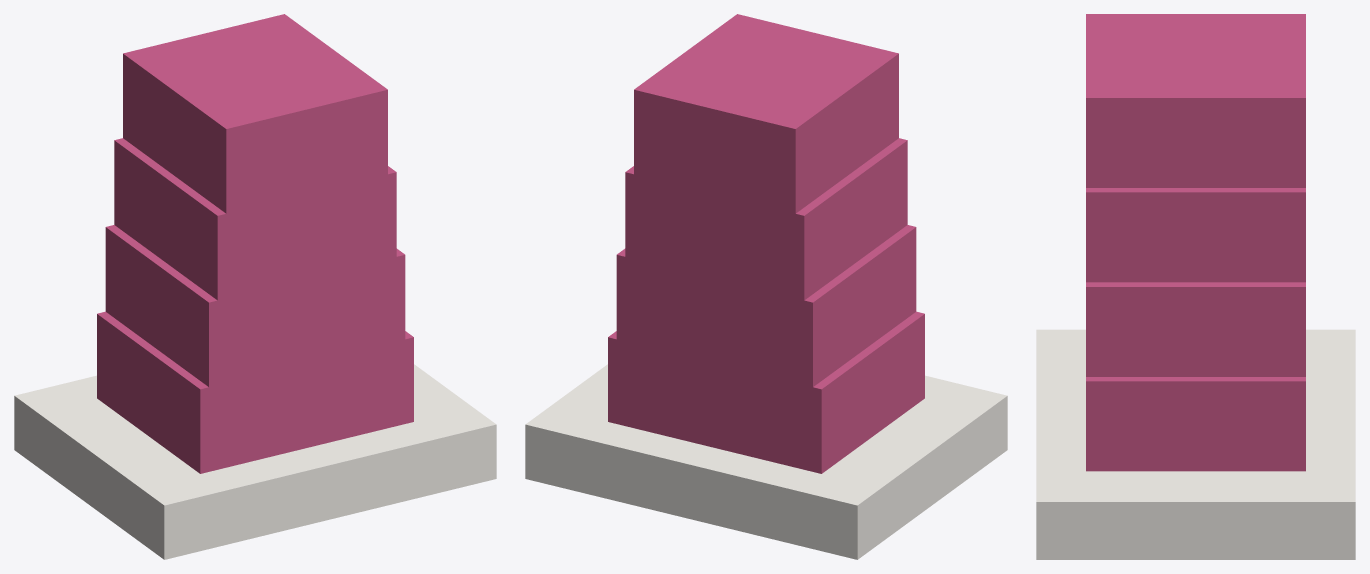
The model's file is record_player-lv4.glb.
The picture shows the model from 3 angles, left to right: view 1: azimuth 30°, elevation 25°; view 2: azimuth 150°, elevation 25°; view 3: azimuth 270°, elevation 25°; orthographic projection. The views are drawn at different scales.
Parts seen in each view (by area): view 1: Base, Level4, Level1, Level2, Level3; view 2: Base, Level4, Level1, Level2, Level3; view 3: Base, Level4, Level1, Level2, Level3.
Part boxes in pixels (x1=…): Base: x1=14, y1=364, x2=496, y2=559; Level4: x1=123, y1=14, x2=387, y2=213; Level1: x1=97, y1=311, x2=413, y2=473; Level2: x1=105, y1=225, x2=405, y2=387; Level3: x1=114, y1=138, x2=396, y2=300; Base: x1=525, y1=364, x2=1007, y2=559; Level4: x1=634, y1=14, x2=898, y2=213; Level1: x1=608, y1=311, x2=924, y2=473; Level2: x1=616, y1=225, x2=916, y2=387; Level3: x1=625, y1=138, x2=907, y2=300; Base: x1=1036, y1=329, x2=1355, y2=559; Level4: x1=1086, y1=14, x2=1305, y2=187; Level1: x1=1086, y1=377, x2=1305, y2=471; Level2: x1=1086, y1=282, x2=1305, y2=376; Level3: x1=1086, y1=188, x2=1305, y2=282.
Bounding box in the file's own units: 1.15 × 1.3 × 0.9.
